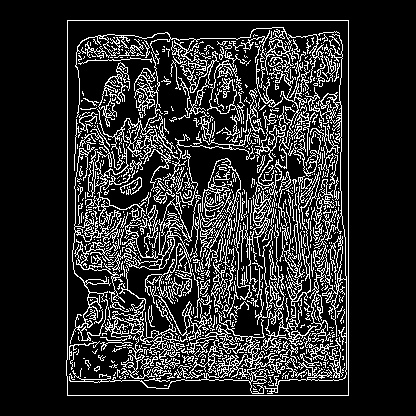buddha-standing: (60, 178, 278, 302)
